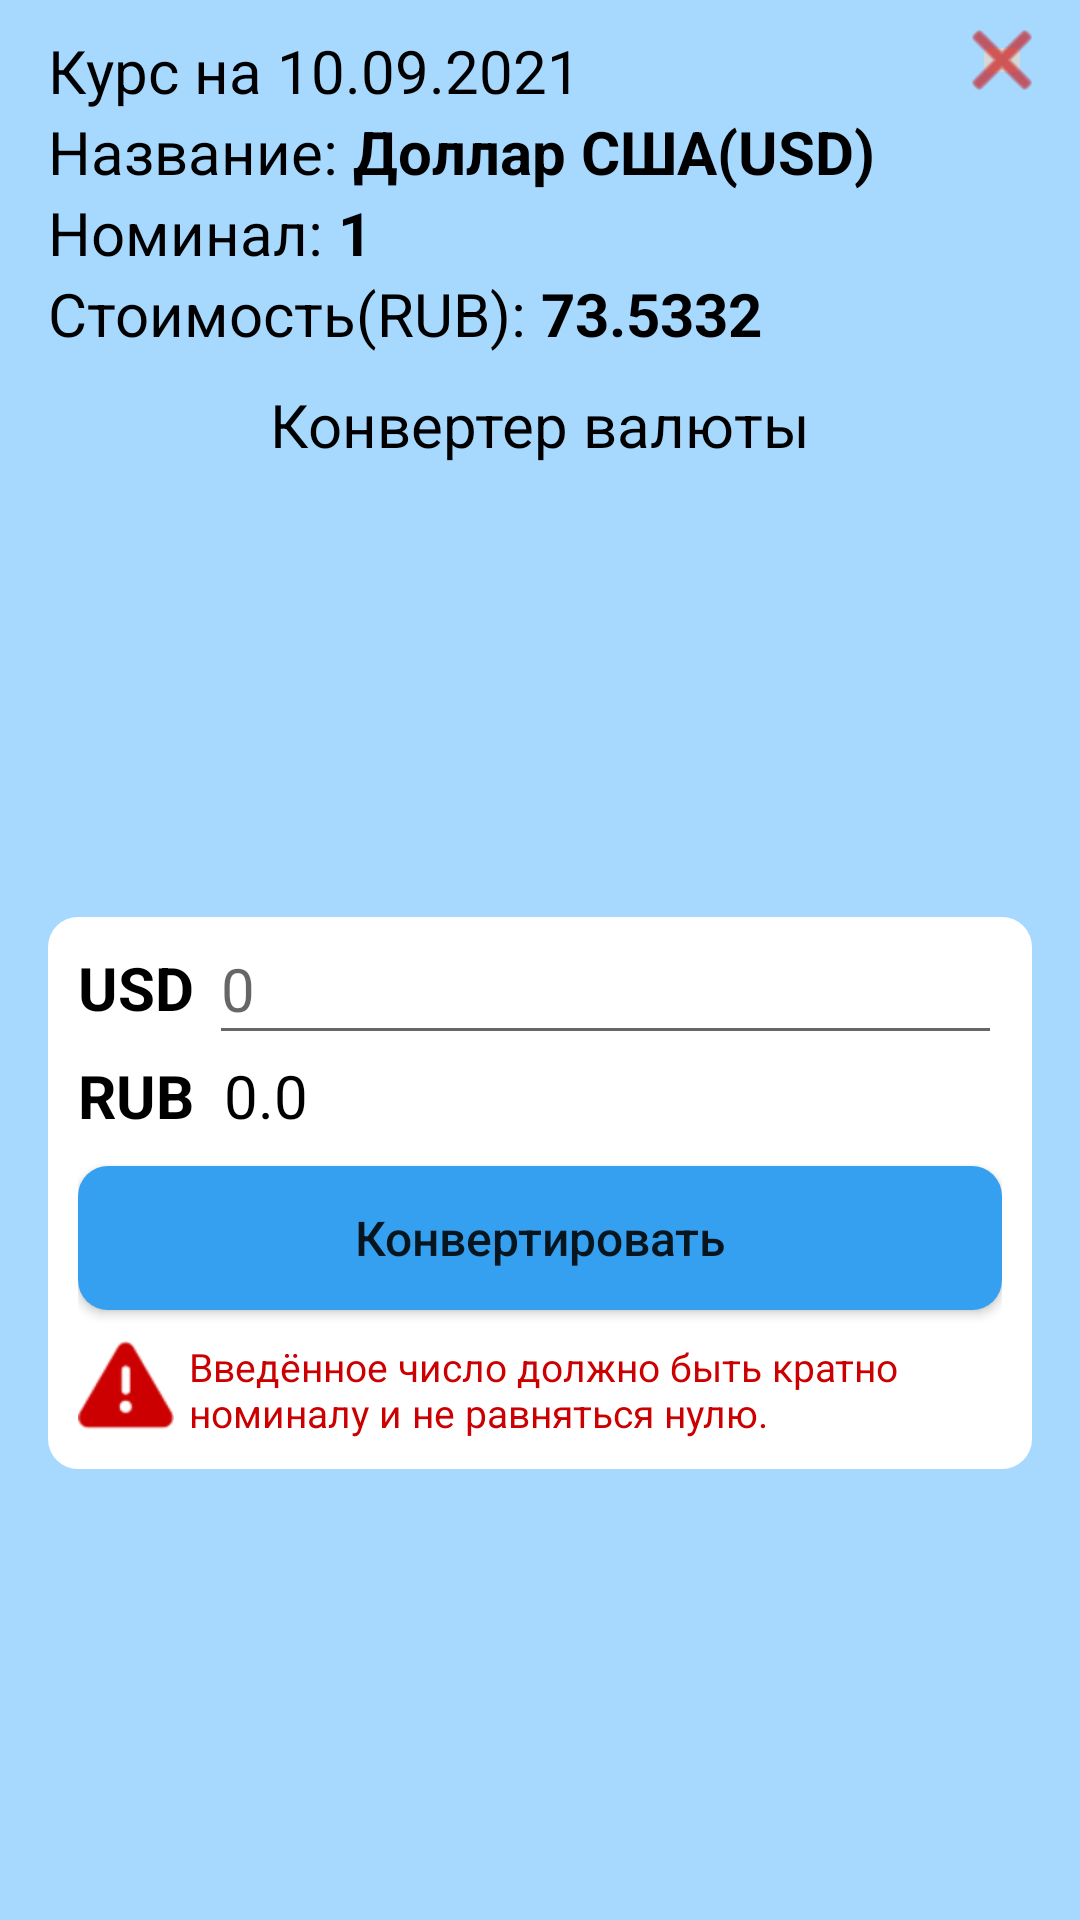

Where icons sit on this 1080x1920 app screen, as (x1, y1, x2, y2):
close clear cancel: (972, 30, 1032, 90)
